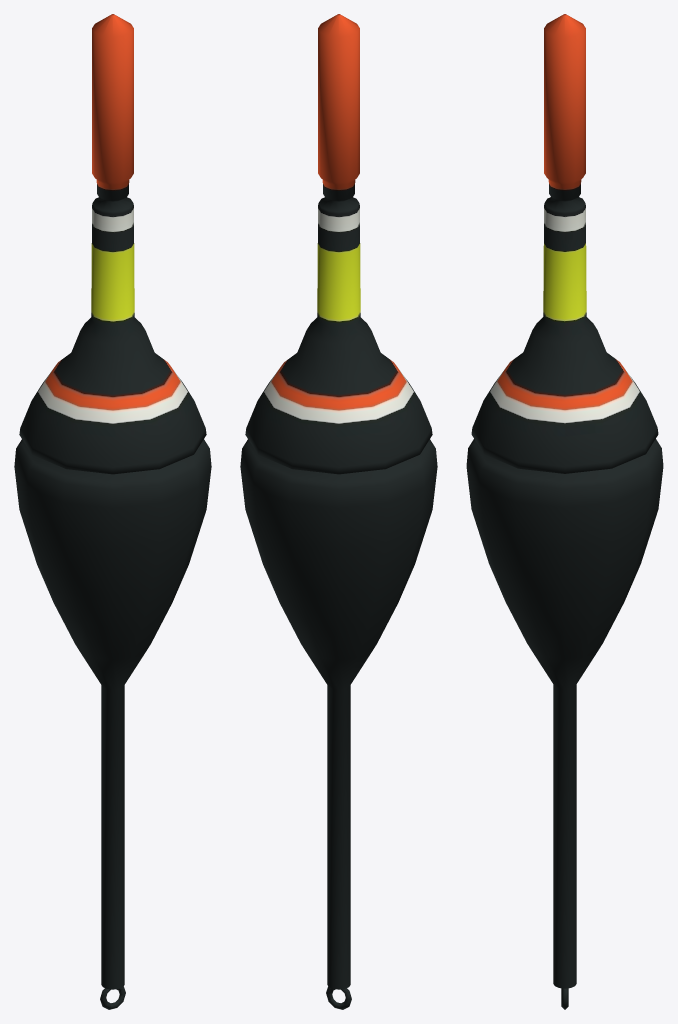
The picture shows the model from 3 angles, left to right: view 1: azimuth 30°, elevation 25°; view 2: azimuth 150°, elevation 25°; view 3: azimuth 270°, elevation 25°; orthographic projection.
Parts seen in each view (by area): view 1: F38_Float; view 2: F38_Float; view 3: F38_Float.
Boxes of the visible parts, x1,y1,x2,y2 form: F38_Float: (14,14,211,1009); F38_Float: (240,14,437,1009); F38_Float: (466,14,663,1009).
Bounding box in the file's own units: 0.0341 × 0.19 × 0.0341.
1 material, 1 textured.
